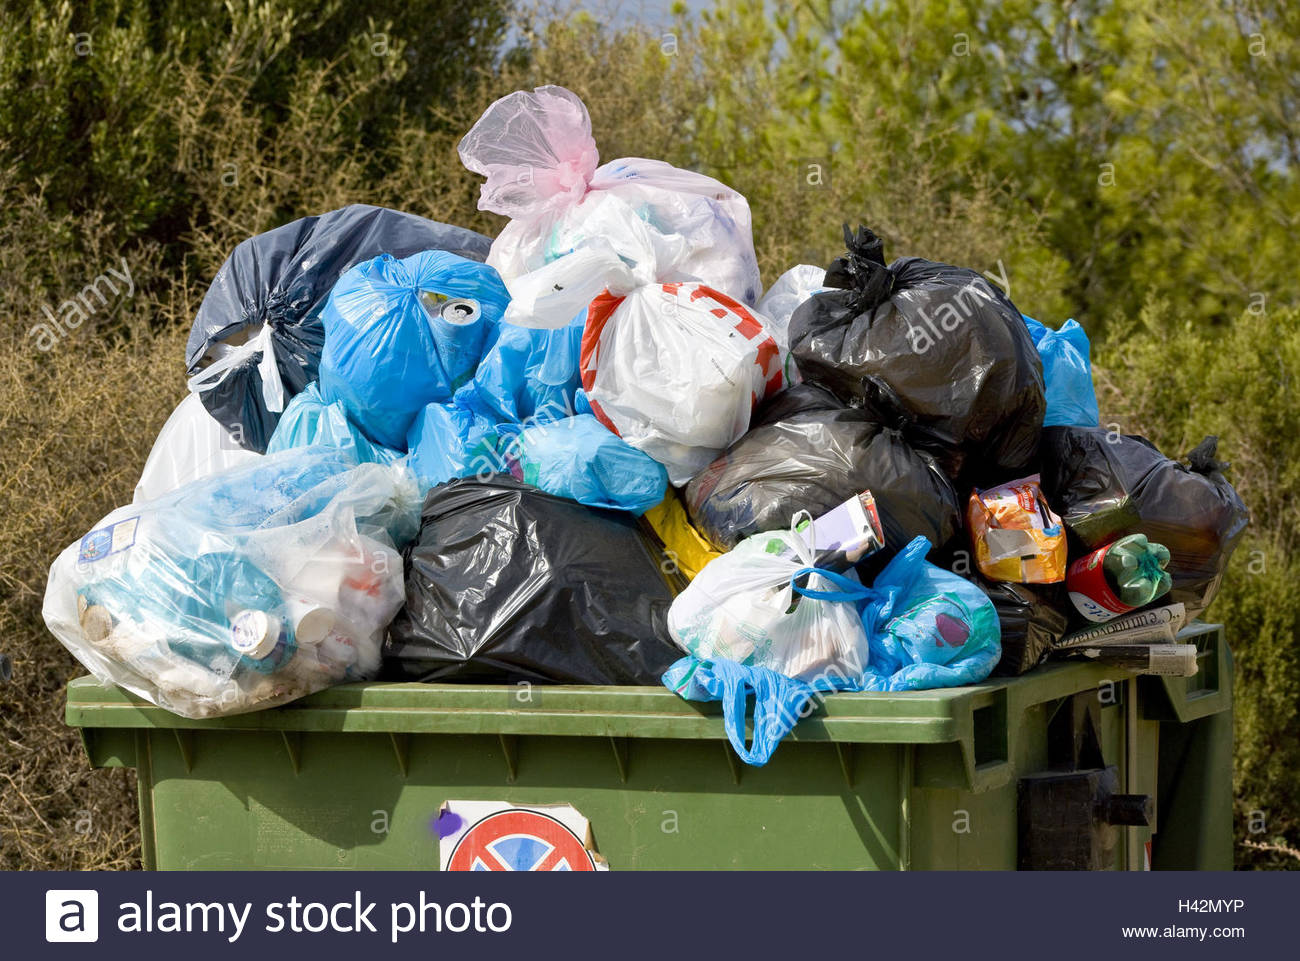plastic_bagwdw: (314, 284, 768, 807), (24, 369, 432, 804), (117, 115, 542, 505), (727, 138, 1121, 515), (401, 51, 776, 433), (358, 456, 685, 761), (1030, 350, 1265, 674), (945, 202, 1177, 486)
